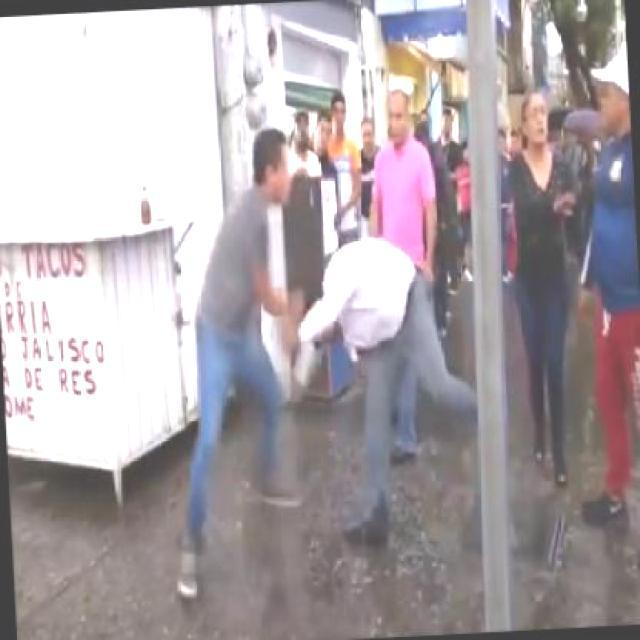fight: (180, 116, 468, 564)
non-fight: (497, 82, 588, 476), (578, 44, 638, 544)
